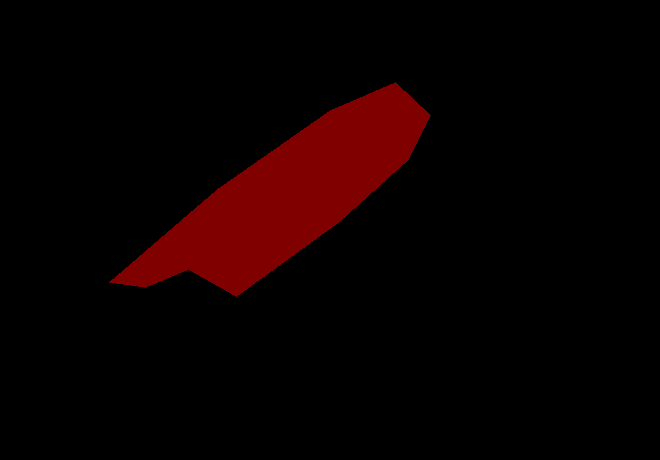fire: (109, 82, 430, 296)
